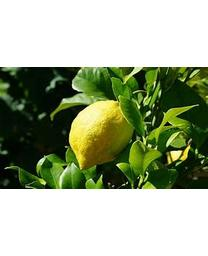lemon: (69, 100, 136, 168)
